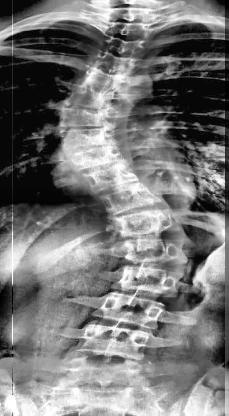Vertebrae: (76, 323, 146, 361), (97, 294, 163, 328), (117, 263, 180, 295), (126, 235, 189, 266), (114, 208, 180, 234), (82, 162, 138, 190), (102, 188, 162, 212), (58, 126, 114, 150), (65, 87, 119, 111), (60, 106, 109, 130), (81, 68, 125, 94), (95, 54, 139, 76), (103, 36, 148, 56), (63, 150, 123, 164), (109, 5, 151, 25), (108, 22, 152, 40)
